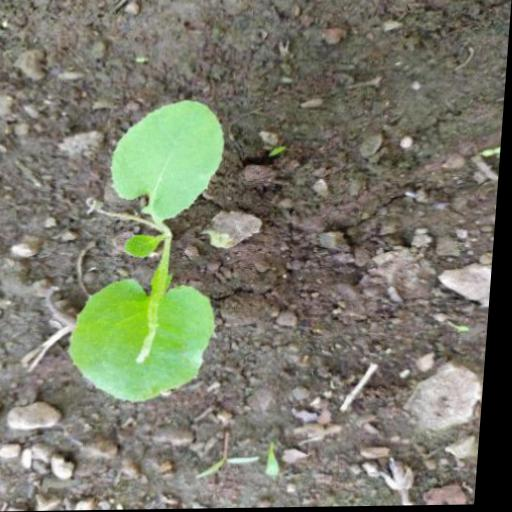weed: (64, 81, 238, 422)
